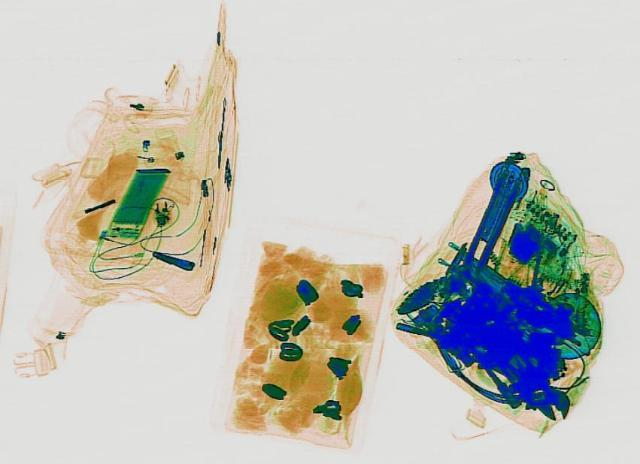Wrench: (488, 335, 580, 424)
